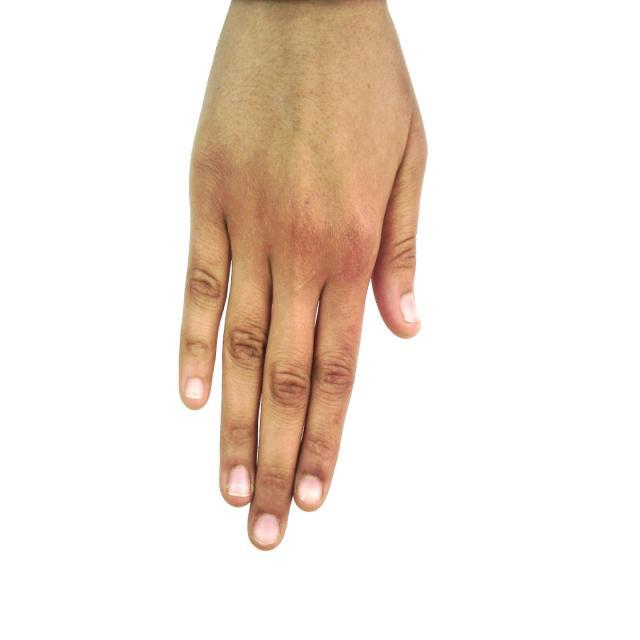Fingernail: (255, 515, 279, 545), (228, 465, 251, 495), (298, 476, 321, 505), (402, 292, 418, 325), (186, 378, 204, 398)
